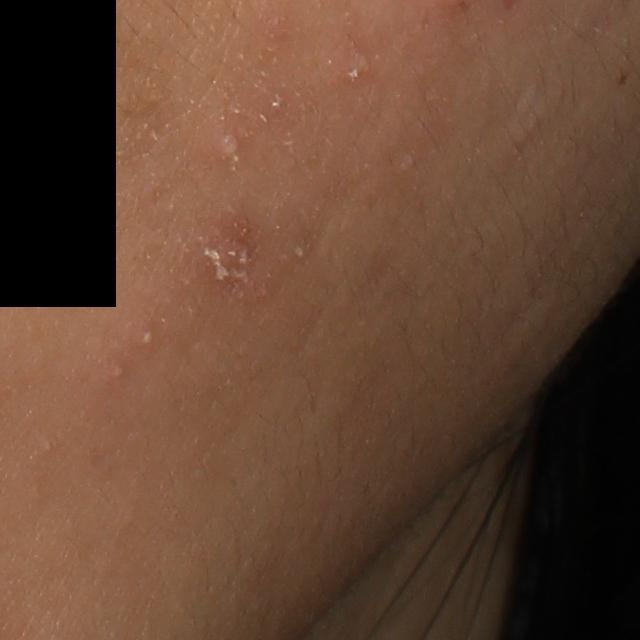pustule: (137, 327, 160, 350)
